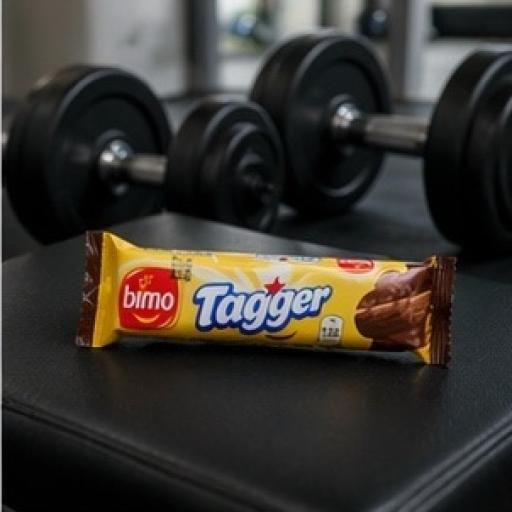tagger: (56, 162, 473, 417)
